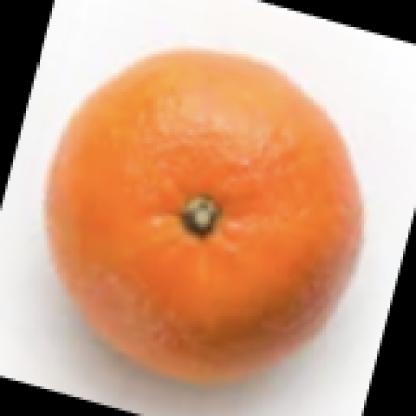fresh: (47, 51, 362, 384)
